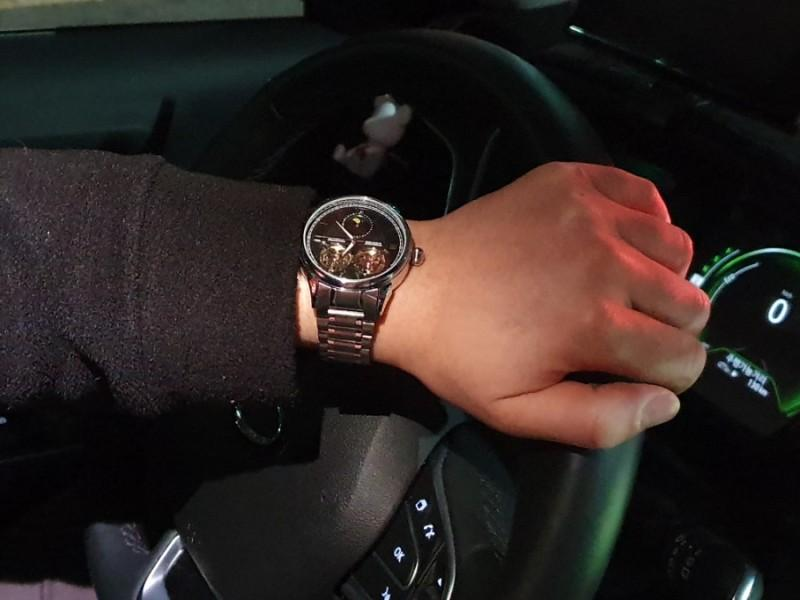watch: (299, 195, 424, 363)
